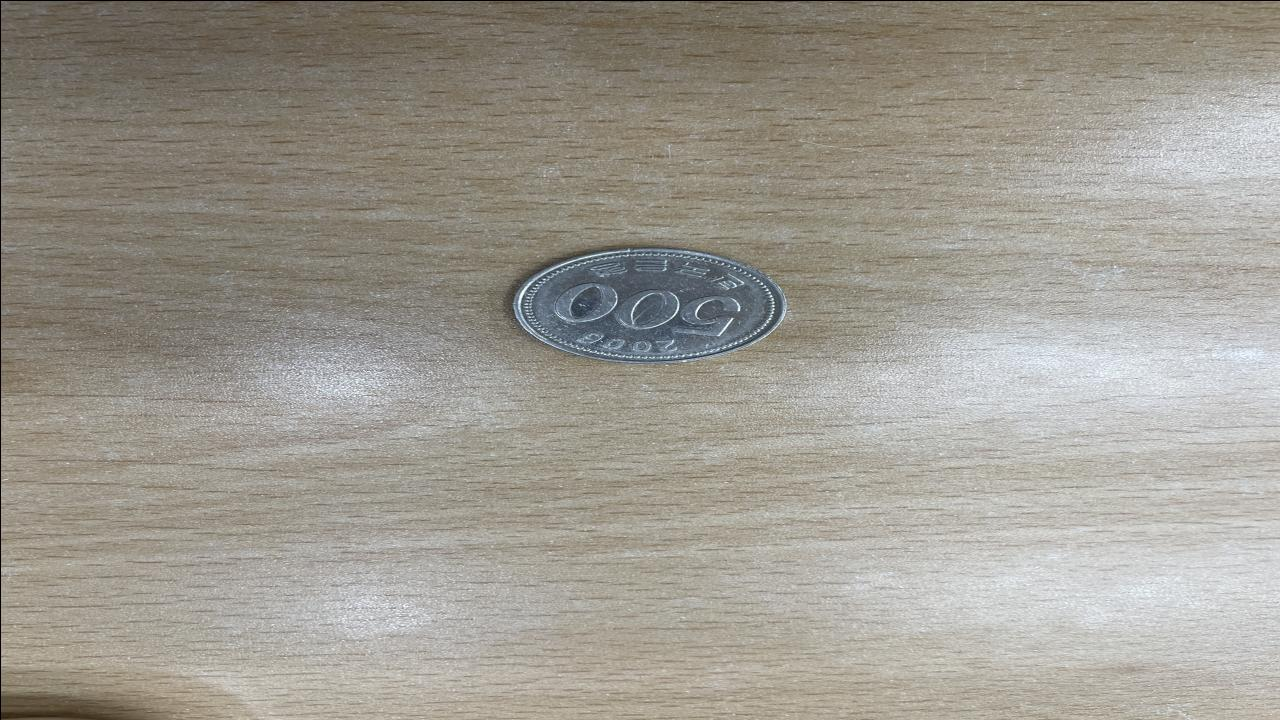coin: (508, 246, 786, 362)
